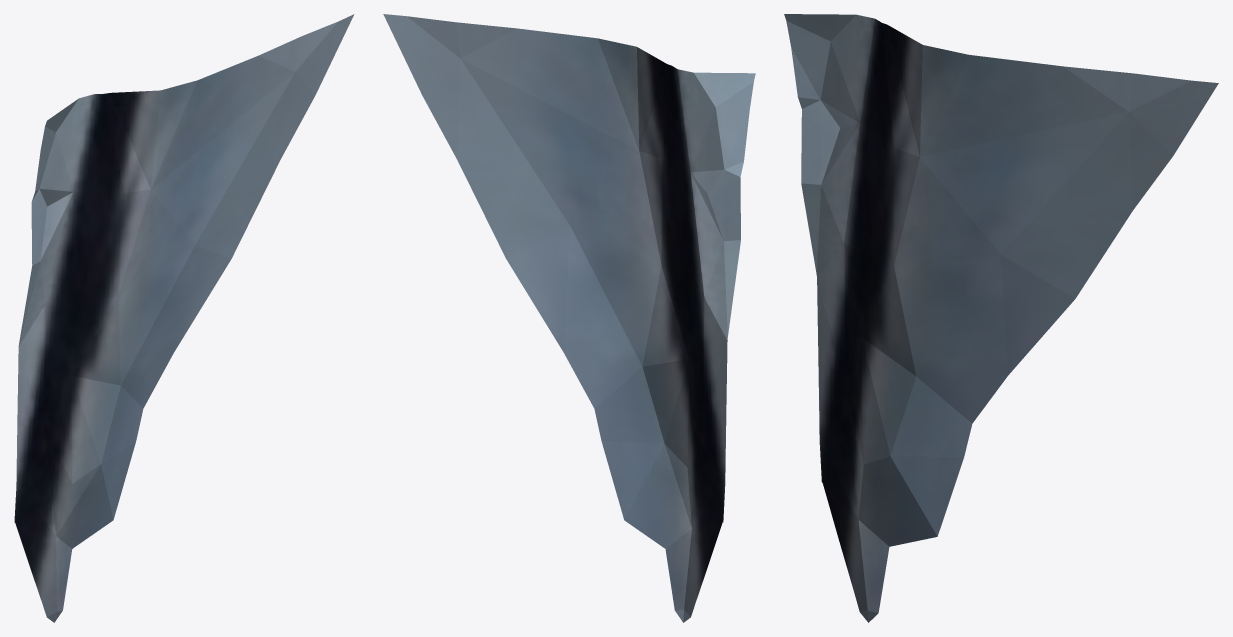
3 views of the same model, side by side, from view 1: azimuth 30°, elevation 25°; view 2: azimuth 150°, elevation 25°; view 3: azimuth 330°, elevation 25° (orthographic). The views are drawn at different scales.
Size of the model in its own units: 0.6416 by 0.9656 by 0.106.
1 material, 1 textured.
